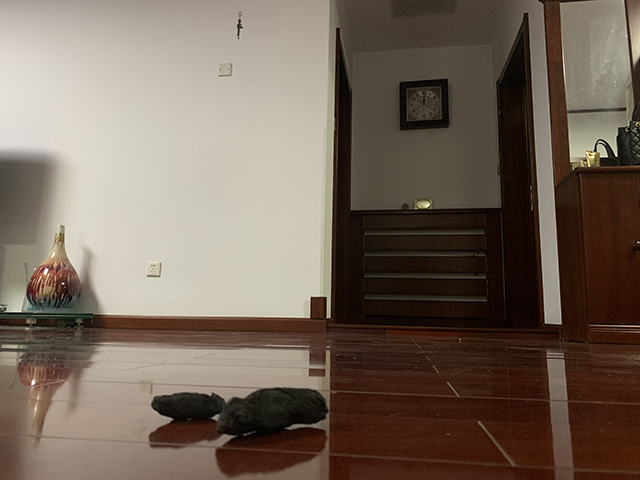cabinet: (553, 163, 640, 345)
feces: (149, 386, 330, 439)
